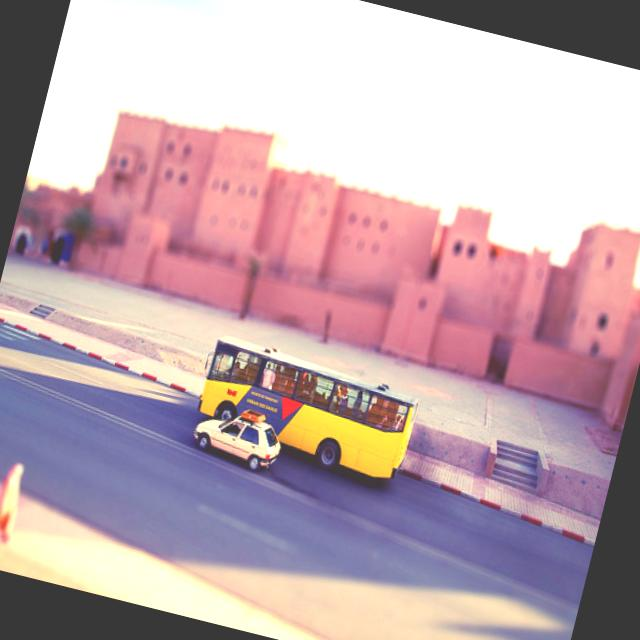Vehicle: (192, 330, 426, 487), (188, 404, 287, 476)
